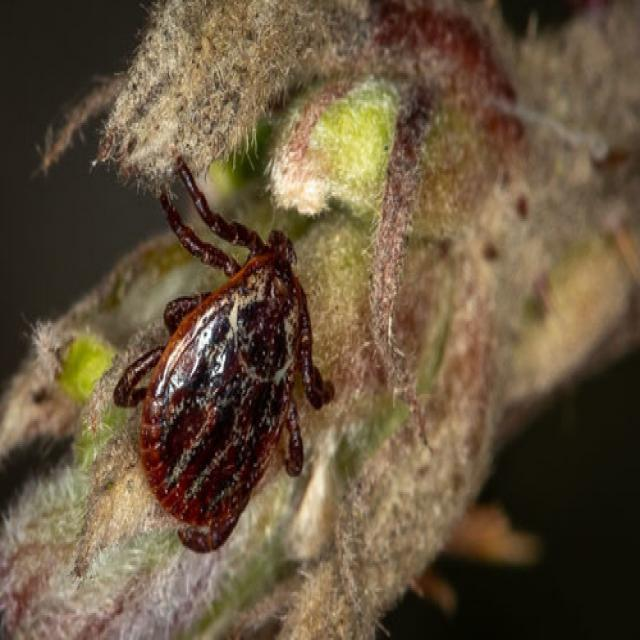Dermacentor Reticulatus-M: (111, 148, 335, 555)
